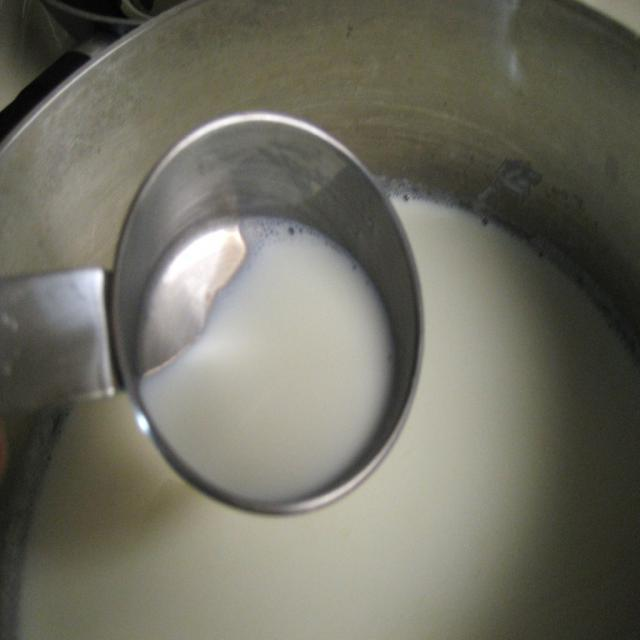Milk: (5, 188, 639, 640)
